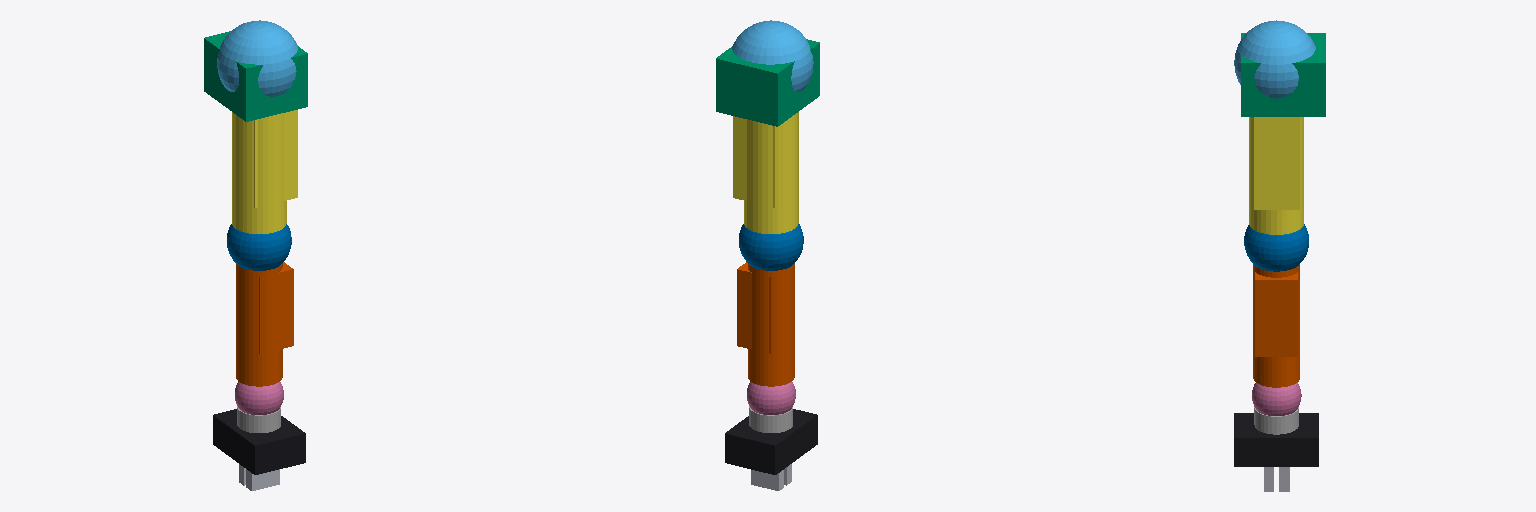
The robot description file, URDF, robot "giorgio_arm_l":
<robot name="giorgio_arm_l">
<link name="base_link" />
<link name="link1"><inertial><origin xyz="0 0 -0.05" /><mass value="0.8" /><inertia ixx="0.004" iyy="0.004" izz="0.002" ixy="0" ixz="0" iyz="0" /></inertial>
<visual><origin xyz="0 0 0" /><geometry><sphere radius="0.065" /></geometry></visual>
</link>
<joint name="l_shoulder_pitch" type="revolute"><parent link="base_link" /><child link="link1" /><origin xyz="0 0 0" /><axis xyz="0 1 0" /><limit lower="-3.0" upper="1.0" effort="120.0" velocity="3.0" /></joint>
<link name="link2"><inertial><origin xyz="0 0 -0.05" /><mass value="0.9" /><inertia ixx="0.004" iyy="0.004" izz="0.002" ixy="0" ixz="0" iyz="0" /></inertial>
<visual><origin xyz="0 0.01 -0.02" /><geometry><box size="0.11 0.13 0.09" /></geometry></visual>
</link>
<joint name="l_shoulder_roll" type="revolute"><parent link="link1" /><child link="link2" /><origin xyz="0 0 0" /><axis xyz="1 0 0" /><limit lower="-0.35" upper="1.7" effort="120.0" velocity="3.0" /></joint>
<link name="link3"><inertial><origin xyz="0 0 -0.05" /><mass value="1.6" /><inertia ixx="0.004" iyy="0.004" izz="0.002" ixy="0" ixz="0" iyz="0" /></inertial>
<visual><origin xyz="0 0 -0.15" /><geometry><cylinder radius="0.042" length="0.24" /></geometry></visual>
<visual><origin xyz="0.01 0 -0.13999999999999999" /><geometry><box size="0.075 0.07 0.17" /></geometry></visual>
</link>
<joint name="l_shoulder_yaw" type="revolute"><parent link="link2" /><child link="link3" /><origin xyz="0 0 0" /><axis xyz="0 0 1" /><limit lower="-2.2" upper="2.2" effort="60.0" velocity="3.0" /></joint>
<link name="link4"><inertial><origin xyz="0 0 -0.05" /><mass value="0.4" /><inertia ixx="0.004" iyy="0.004" izz="0.002" ixy="0" ixz="0" iyz="0" /></inertial>
<visual><origin xyz="0 0 0" /><geometry><sphere radius="0.05" /></geometry></visual>
</link>
<joint name="l_elbow" type="revolute"><parent link="link3" /><child link="link4" /><origin xyz="0 0 -0.3" /><axis xyz="0 1 0" /><limit lower="-2.6" upper="0.0" effort="60.0" velocity="3.0" /></joint>
<link name="link5"><inertial><origin xyz="0 0 -0.05" /><mass value="1.1" /><inertia ixx="0.004" iyy="0.004" izz="0.002" ixy="0" ixz="0" iyz="0" /></inertial>
<visual><origin xyz="0 0 -0.13" /><geometry><cylinder radius="0.036" length="0.20" /></geometry></visual>
<visual><origin xyz="0.012 0 -0.11" /><geometry><box size="0.06 0.065 0.13" /></geometry></visual>
</link>
<joint name="l_wrist_yaw" type="revolute"><parent link="link4" /><child link="link5" /><origin xyz="0 0 0" /><axis xyz="0 0 1" /><limit lower="-2.6" upper="2.6" effort="20.0" velocity="3.0" /></joint>
<link name="link6"><inertial><origin xyz="0 0 -0.05" /><mass value="0.3" /><inertia ixx="0.004" iyy="0.004" izz="0.002" ixy="0" ixz="0" iyz="0" /></inertial>
<visual><origin xyz="0 0 0" /><geometry><sphere radius="0.038" /></geometry></visual>
</link>
<joint name="l_wrist_pitch" type="revolute"><parent link="link5" /><child link="link6" /><origin xyz="0 0 -0.26" /><axis xyz="0 1 0" /><limit lower="-1.7" upper="1.7" effort="20.0" velocity="3.0" /></joint>
<link name="link7"><inertial><origin xyz="0 0 -0.05" /><mass value="0.25" /><inertia ixx="0.004" iyy="0.004" izz="0.002" ixy="0" ixz="0" iyz="0" /></inertial>
<visual><origin xyz="0 0 -0.015" /><geometry><cylinder radius="0.034" length="0.03" /></geometry></visual>
</link>
<joint name="l_wrist_roll" type="revolute"><parent link="link6" /><child link="link7" /><origin xyz="0 0 -0.02" /><axis xyz="0 0 1" /><limit lower="-2.9" upper="2.9" effort="15.0" velocity="3.0" /></joint>
<link name="tool0" />
<joint name="l_tool" type="fixed"><parent link="link7" /><child link="tool0" /><origin xyz="0 0 -0.030000000000000002" rpy="3.14159265 0 0" /></joint>
<link name="gripper_body"><inertial><origin xyz="0 0 0.025" /><mass value="0.9" /><inertia ixx="1e-4" iyy="1e-4" izz="1e-4" ixy="0" ixz="0" iyz="0" /></inertial><visual><origin xyz="0 0 0.025" /><geometry><box size="0.09 0.130 0.05" /></geometry><material name="m_gripper_body"><color rgba="0.15 0.15 0.17 1" /></material></visual></link><joint name="gripper_mount" type="fixed"><parent link="tool0" /><child link="gripper_body" /><origin xyz="0 0 0" /></joint><link name="finger_left"><inertial><origin xyz="0 0.01 0" /><mass value="0.1" /><inertia ixx="1e-4" iyy="1e-4" izz="1e-4" ixy="0" ixz="0" iyz="0" /></inertial><visual><origin xyz="0 0.012 0" /><geometry><box size="0.05 0.016 0.05" /></geometry><material name="m_finger_left"><color rgba="0.75 0.76 0.8 1" /></material></visual><collision><origin xyz="-0.016 0.01 0" /><geometry><box size="0.014 0.02 0.05" /></geometry></collision><collision><origin xyz="0.016 0.01 0" /><geometry><box size="0.014 0.02 0.05" /></geometry></collision></link><joint name="finger_left_joint" type="prismatic"><parent link="gripper_body" /><child link="finger_left" /><origin xyz="0 0 0.07500000000000001" /><axis xyz="0 1 0" /><limit lower="0" upper="0.035" effort="60.0" velocity="0.2" /></joint><link name="finger_right"><inertial><origin xyz="0 -0.01 0" /><mass value="0.1" /><inertia ixx="1e-4" iyy="1e-4" izz="1e-4" ixy="0" ixz="0" iyz="0" /></inertial><visual><origin xyz="0 -0.012 0" /><geometry><box size="0.05 0.016 0.05" /></geometry><material name="m_finger_right"><color rgba="0.75 0.76 0.8 1" /></material></visual><collision><origin xyz="-0.016 -0.01 0" /><geometry><box size="0.014 0.02 0.05" /></geometry></collision><collision><origin xyz="0.016 -0.01 0" /><geometry><box size="0.014 0.02 0.05" /></geometry></collision></link><joint name="finger_right_joint" type="prismatic"><parent link="gripper_body" /><child link="finger_right" /><origin xyz="0 0 0.07500000000000001" /><axis xyz="0 -1 0" /><limit lower="0" upper="0.035" effort="60.0" velocity="0.2" /></joint></robot>

--- Facts derived from the render (not from the file) ---
3 views of the same robot in one strip: view 1: azimuth 30°, elevation 25°; view 2: azimuth 150°, elevation 25°; view 3: azimuth 270°, elevation 25° (orthographic).
Model giorgio_arm_l with 12 links and 11 joints (7 revolute, 2 prismatic, 2 fixed), rooted at base_link, posed all joints at 0.
Visible links, largest first — view 1: link3, link5, link1, link2, gripper_body, link4, link6, link7, finger_left; view 2: link3, link5, link2, gripper_body, link1, link4, link6, link7; view 3: link3, link5, link1, link2, gripper_body, link4, link6, link7.
Boxes of the visible links, left/top/right/bottom form: link3: left=232, top=110, right=297, bottom=233; link5: left=236, top=262, right=293, bottom=386; link1: left=217, top=20, right=297, bottom=96; link2: left=204, top=31, right=307, bottom=121; gripper_body: left=213, top=409, right=305, bottom=474; link4: left=227, top=224, right=291, bottom=270; link6: left=235, top=381, right=283, bottom=414; link7: left=237, top=406, right=280, bottom=432; finger_left: left=246, top=469, right=279, bottom=490; link3: left=733, top=112, right=798, bottom=233; link5: left=737, top=262, right=794, bottom=386; link2: left=716, top=39, right=819, bottom=126; gripper_body: left=725, top=409, right=817, bottom=474; link1: left=732, top=20, right=813, bottom=91; link4: left=739, top=224, right=803, bottom=270; link6: left=747, top=381, right=795, bottom=414; link7: left=749, top=406, right=792, bottom=432; link3: left=1249, top=117, right=1303, bottom=234; link5: left=1253, top=264, right=1299, bottom=387; link1: left=1234, top=20, right=1315, bottom=98; link2: left=1241, top=33, right=1325, bottom=116; gripper_body: left=1234, top=413, right=1318, bottom=466; link4: left=1244, top=224, right=1308, bottom=271; link6: left=1252, top=382, right=1301, bottom=415; link7: left=1254, top=407, right=1298, bottom=434.
Bounding box of the posed robot: 0.13 × 0.14 × 0.775 m (x, y, z).
Geometry: primitives only (box / cylinder / sphere), no mesh files.
